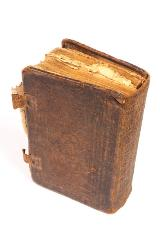paper: (11, 38, 151, 214)
